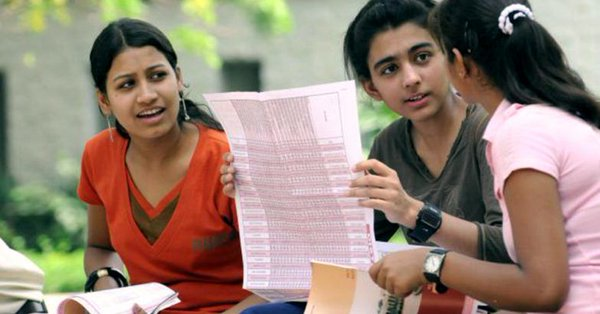Person: (428, 1, 597, 314), (344, 1, 506, 314), (84, 17, 231, 314)
